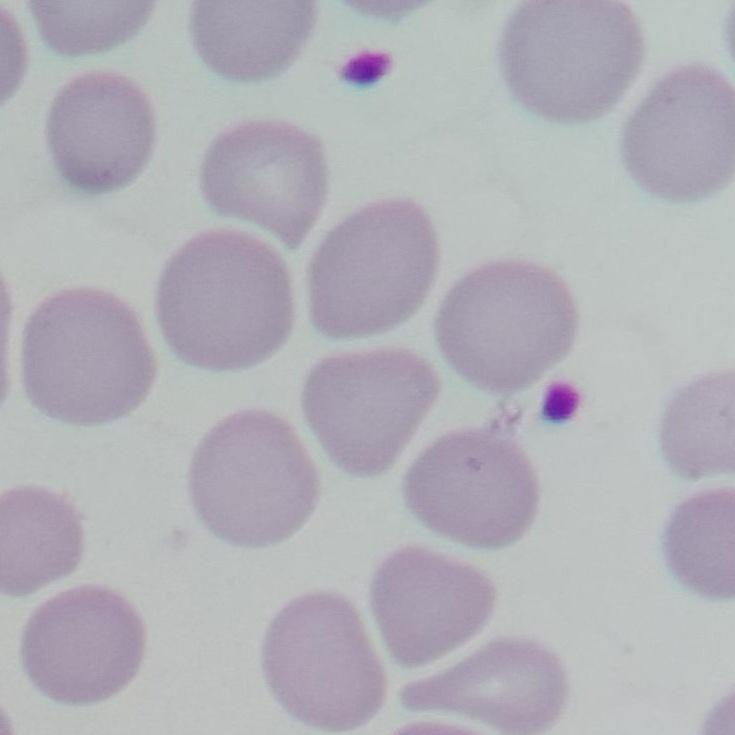Uninfected: (434, 255, 576, 393), (159, 226, 294, 370), (19, 286, 153, 424), (304, 200, 436, 339), (299, 346, 435, 480), (189, 409, 318, 548), (504, 0, 644, 124), (404, 426, 541, 549), (264, 589, 384, 729), (400, 632, 567, 731), (370, 546, 500, 668), (201, 119, 325, 242), (624, 65, 735, 198), (20, 586, 143, 703), (47, 72, 153, 194), (190, 0, 319, 87), (0, 489, 87, 598)
